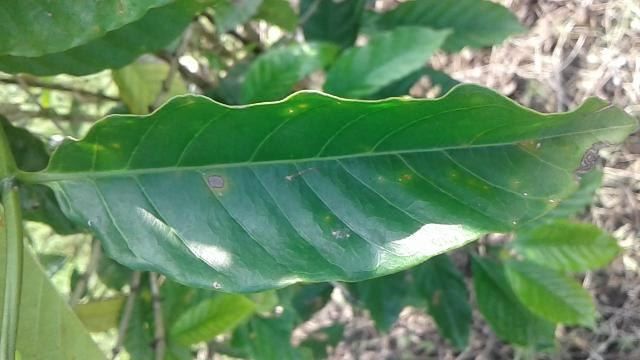rust_level_1: (43, 80, 638, 292)
